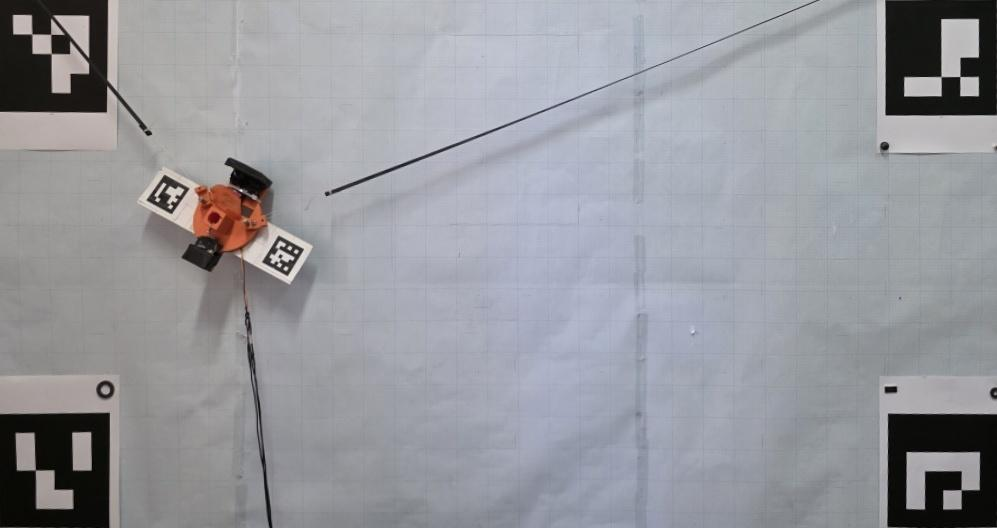robot: (183, 158, 273, 273)
